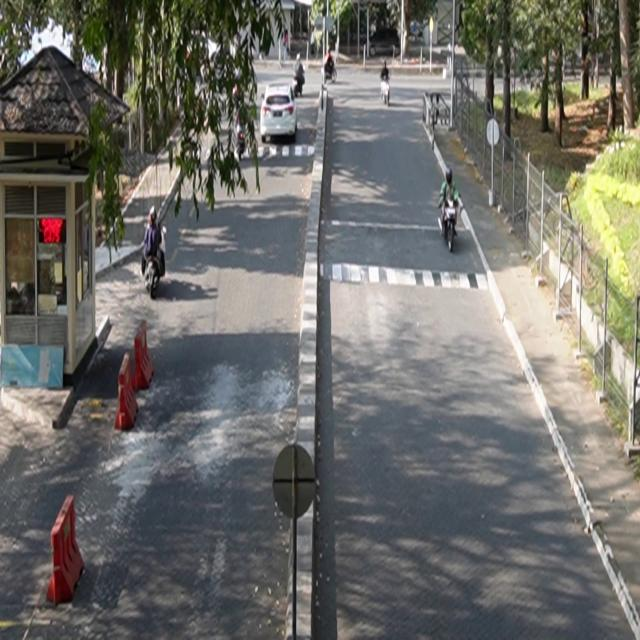car: (261, 83, 298, 144)
